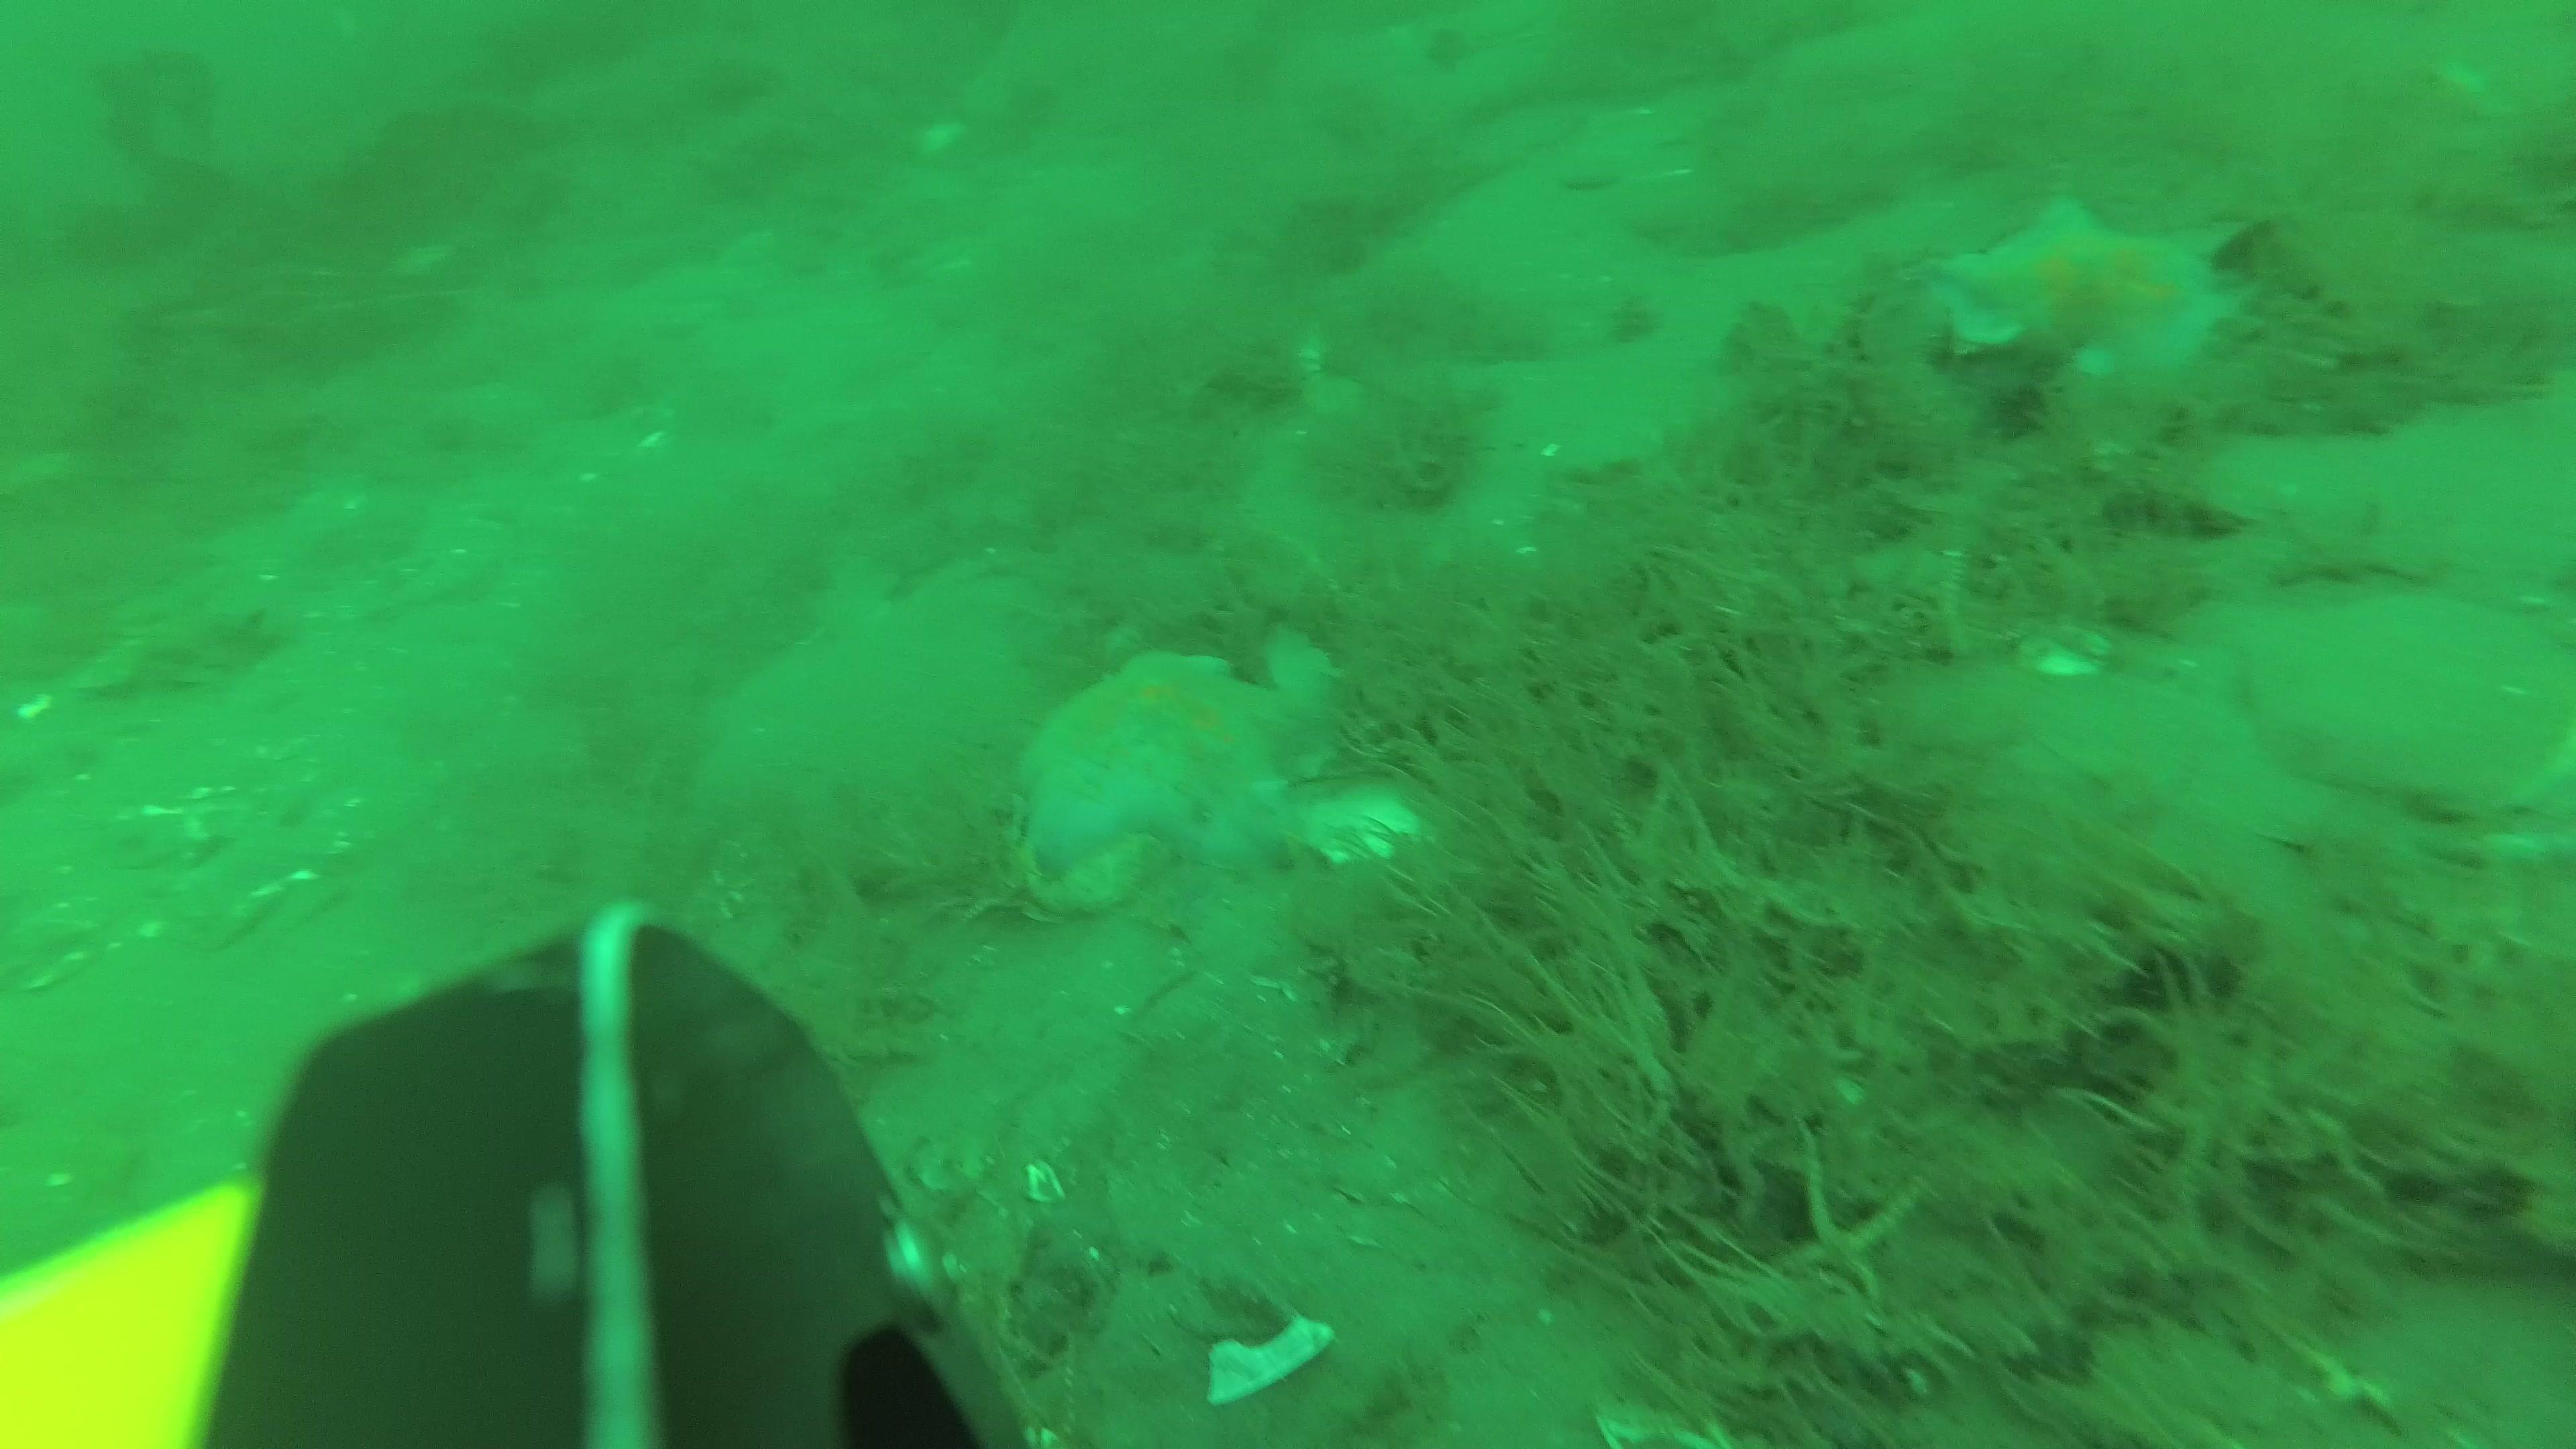scallop: (2236, 589, 2576, 821)
starfish: (993, 637, 1315, 862), (1928, 184, 2242, 380)
